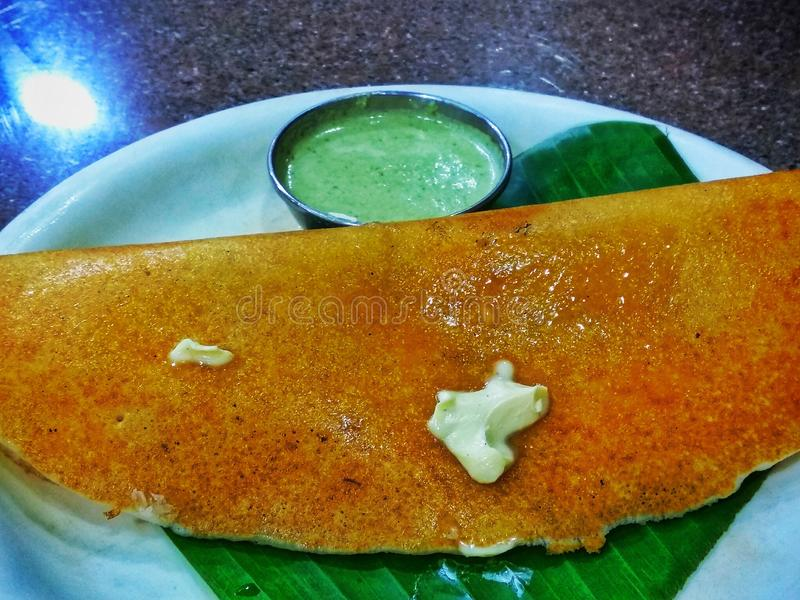dosa: (3, 166, 799, 556)
